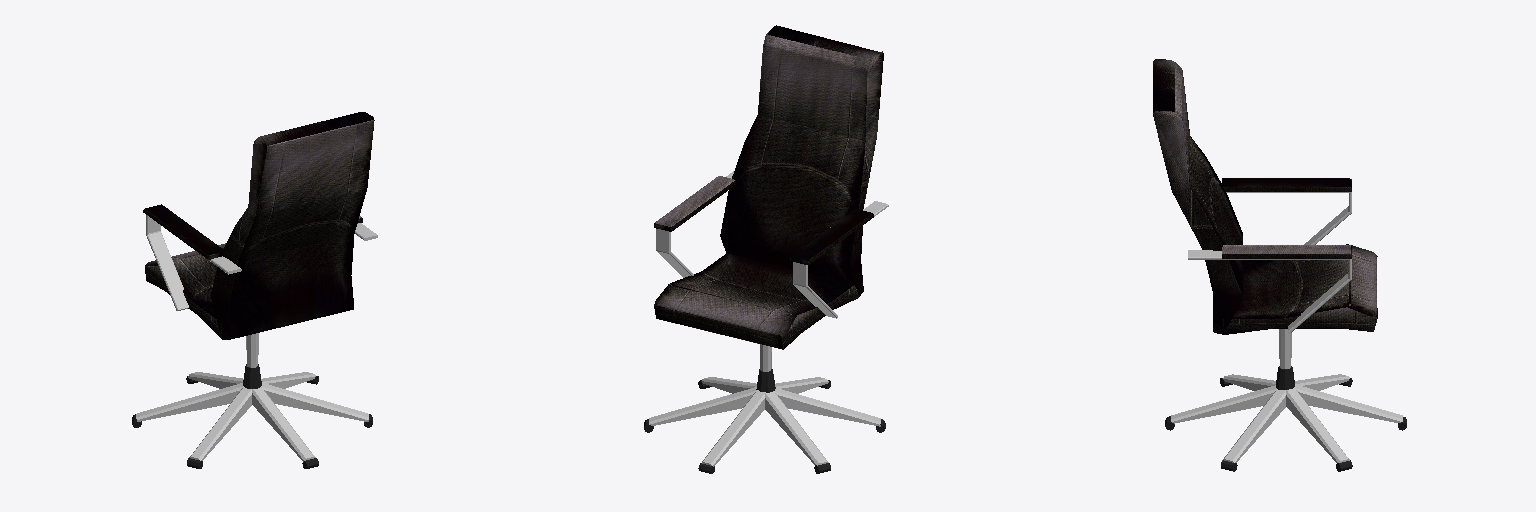
3 views of the same model, side by side, from view 1: azimuth 30°, elevation 25°; view 2: azimuth 150°, elevation 25°; view 3: azimuth 270°, elevation 25° (orthographic).
Parts seen in each view (by area): view 1: Object015, Cylinder031, Cylinder032; view 2: Object015, Cylinder031, Cylinder032; view 3: Object015, Cylinder031, Cylinder032.
Boxes of the visible parts, <box> form: Object015: <box>143,112,374,339</box>; Cylinder031: <box>136,215,377,461</box>; Cylinder032: <box>132,364,372,468</box>; Object015: <box>654,25,883,349</box>; Cylinder031: <box>649,171,888,466</box>; Cylinder032: <box>644,369,885,473</box>; Object015: <box>1153,59,1377,334</box>; Cylinder031: <box>1171,192,1402,462</box>; Cylinder032: <box>1165,366,1406,471</box>.
Bounding box in the file's own units: 66.48 × 117 × 78.38.
3 materials, 1 textured.